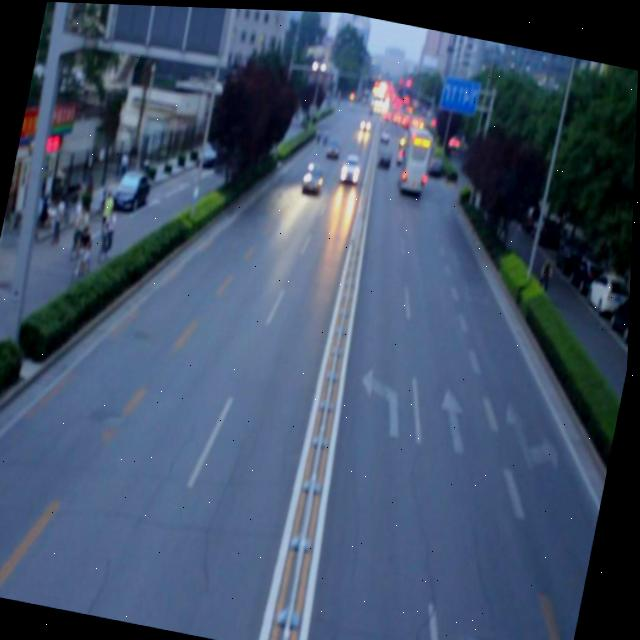car: (450, 627, 576, 640)
